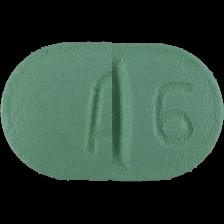16714-611: (0, 0, 224, 224)
